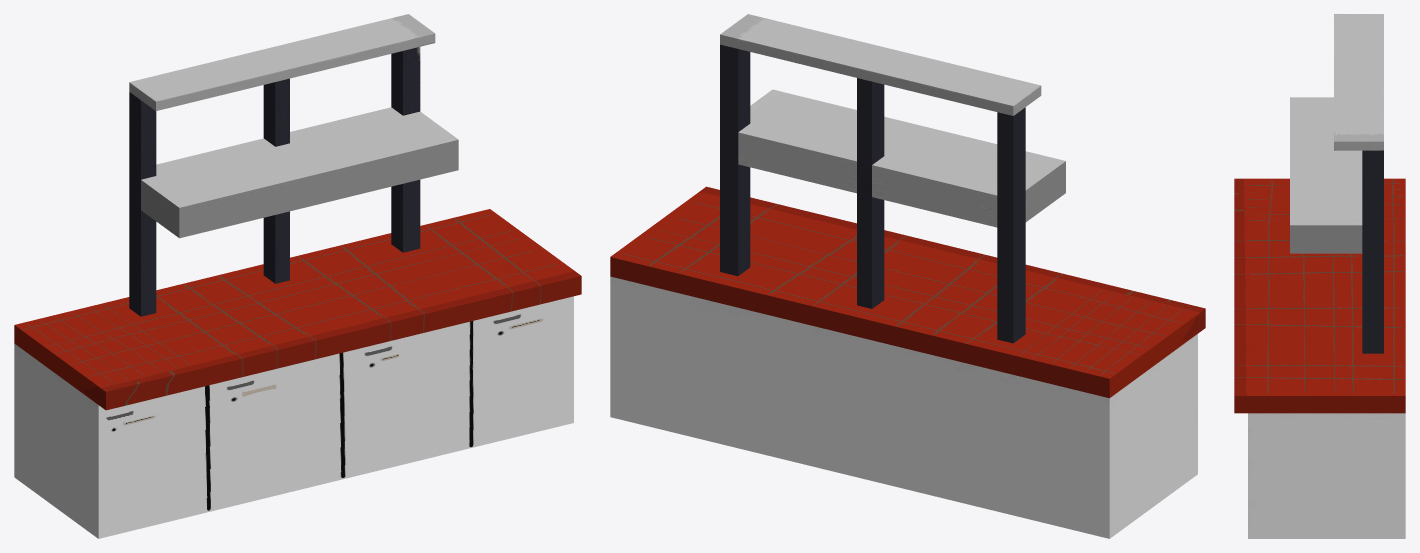
File: Lab_table.fbx
3 renders of one model, left to right at view 1: azimuth 30°, elevation 25°; view 2: azimuth 150°, elevation 25°; view 3: azimuth 270°, elevation 25°, orthographic. The views are drawn at different scales.
Parts seen in each view (by area): view 1: Table_Lab; view 2: Table_Lab; view 3: Table_Lab.
Part boxes in pixels (x1,y1,x2,y2): Table_Lab: (14, 14, 581, 538); Table_Lab: (610, 14, 1205, 538); Table_Lab: (1234, 14, 1405, 538).
Size of the model in its own units: 126 by 95.89 by 42.04.
Materials: 1 (1 with a texture image).
